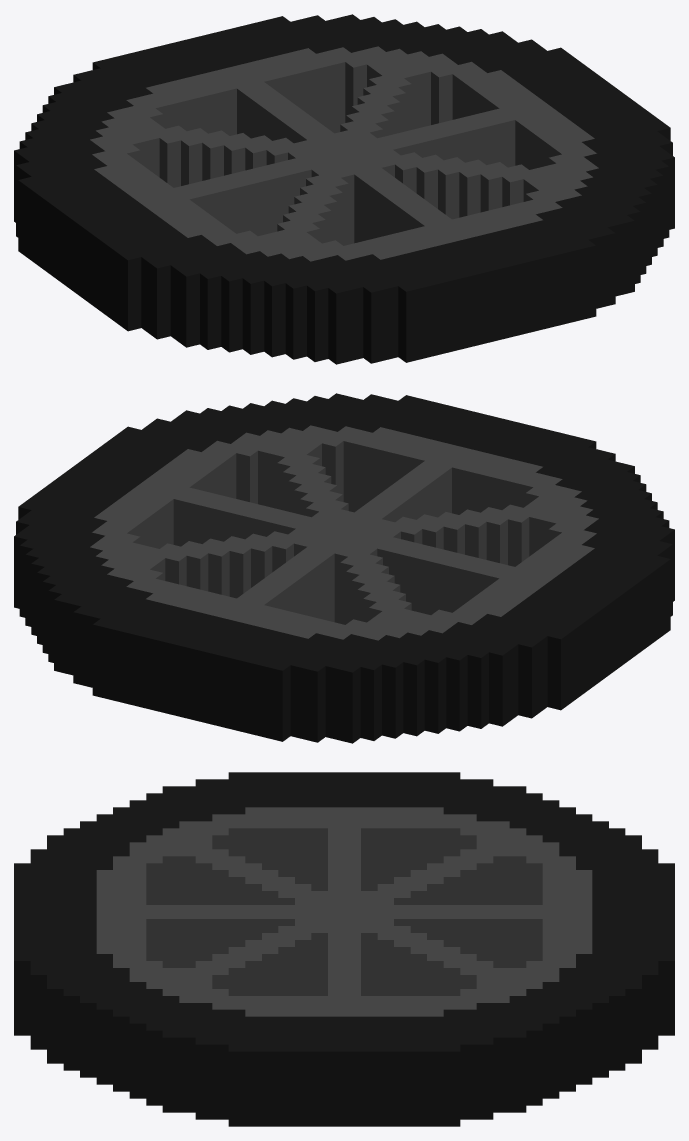
Rendered from Wheel.obj.
The picture shows the model from 3 angles, top to bottom: view 1: azimuth 30°, elevation 25°; view 2: azimuth 150°, elevation 25°; view 3: azimuth 270°, elevation 25°; orthographic projection. The views are drawn at different scales.
Parts seen in each view (by area): view 1: Wheel; view 2: Wheel; view 3: Wheel.
Part boxes in pixels (x1=…): Wheel: x1=14, y1=14, x2=674, y2=364; Wheel: x1=14, y1=393, x2=674, y2=743; Wheel: x1=14, y1=772, x2=674, y2=1126.
Size of the model in its own units: 40 by 5 by 40.
Materials: 1 (1 with a texture image).
